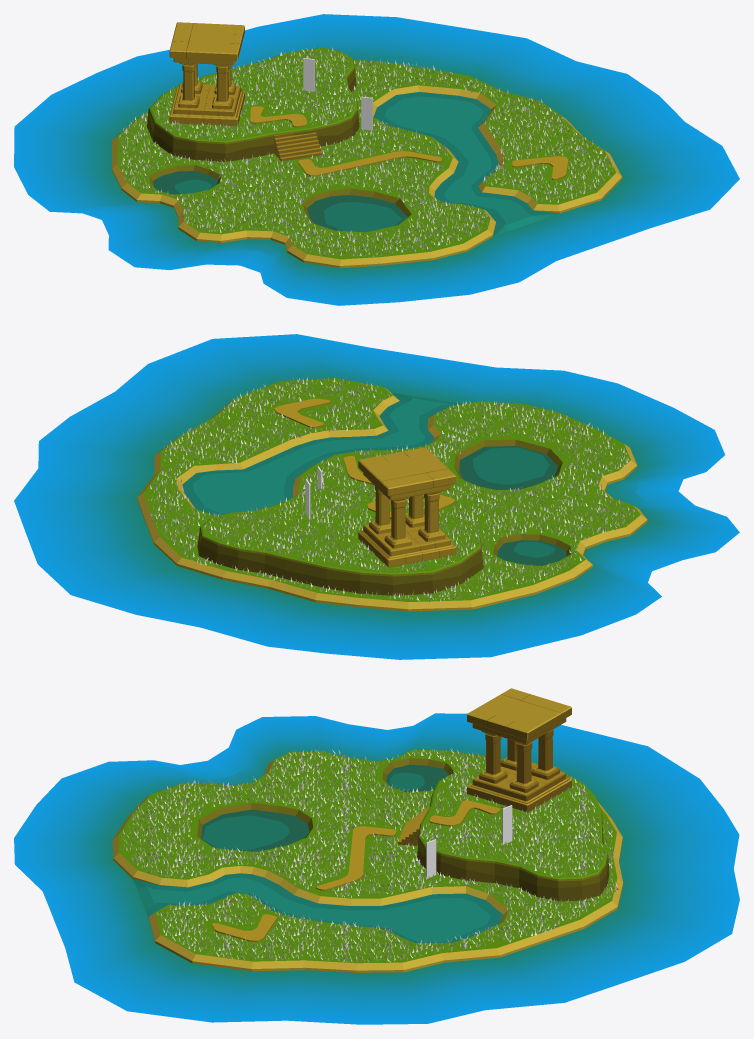
The model's file is Jungle_island.fbx.
The picture shows the model from 3 angles, top to bottom: view 1: azimuth 30°, elevation 25°; view 2: azimuth 150°, elevation 25°; view 3: azimuth 270°, elevation 25°; orthographic projection. The views are drawn at different scales.
Visible parts, largest first — view 1: Plane.041, Plane.009, Plane.040, Plane.010, Cube.008, Plane.011, Plane.013, Plane.012, Stairs; view 2: Plane.041, Plane.009, Plane.040, Plane.010, Cube.008, Plane.011, Plane.013, Plane.012; view 3: Plane.041, Plane.009, Plane.040, Plane.010, Cube.008, Plane.011, Plane.013, Plane.012, Stairs.
Boxes of the visible parts, box(x1,y1,x2,y2) form: Plane.041: box(14, 14, 739, 305); Plane.009: box(111, 47, 622, 268); Plane.040: box(119, 46, 613, 256); Plane.010: box(373, 92, 558, 236); Cube.008: box(169, 22, 244, 126); Plane.011: box(307, 195, 407, 232); Plane.013: box(250, 106, 568, 180); Plane.012: box(153, 171, 217, 194); Stairs: box(273, 132, 322, 161); Plane.041: box(14, 334, 739, 659); Plane.009: box(137, 378, 647, 611); Plane.040: box(148, 375, 635, 602); Plane.010: box(182, 392, 462, 515); Cube.008: box(358, 447, 456, 567); Plane.011: box(459, 446, 557, 489); Plane.013: box(274, 398, 455, 518); Plane.012: box(497, 540, 566, 565); Plane.041: box(14, 713, 739, 1024); Plane.009: box(113, 750, 623, 972); Plane.040: box(123, 747, 618, 962); Plane.010: box(133, 873, 503, 942); Cube.008: box(467, 688, 571, 812); Plane.011: box(201, 809, 309, 851); Plane.013: box(212, 800, 500, 941); Plane.012: box(386, 764, 448, 792); Stairs: box(398, 806, 429, 845).
Bounding box in the file's own units: 5629 × 926 × 5546.
